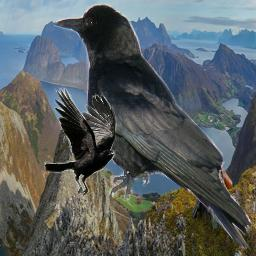Crow: (52, 3, 252, 250), (44, 88, 117, 198)
